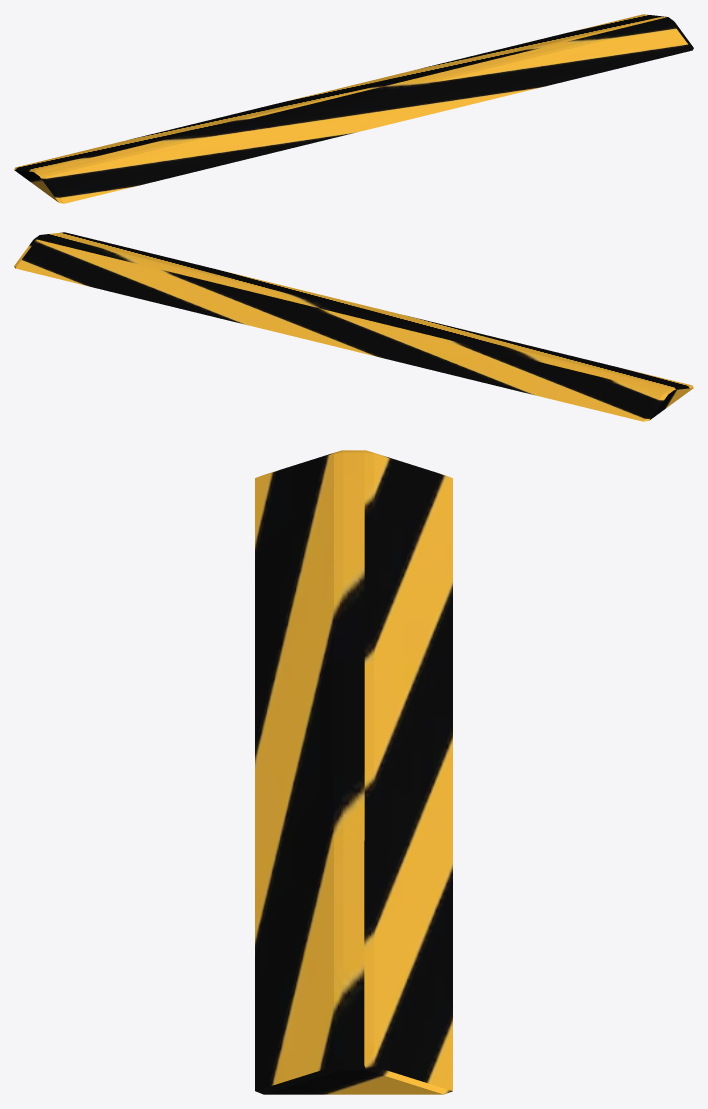
The model's file is breaker.fbx.
3 views of the same model, one above another, from view 1: azimuth 30°, elevation 25°; view 2: azimuth 150°, elevation 25°; view 3: azimuth 270°, elevation 25° (orthographic). The views are drawn at different scales.
Parts seen in each view (by area): view 1: breaker; view 2: breaker; view 3: breaker.
Boxes of the visible parts, x1=… form: breaker: x1=14, y1=14, x2=693, y2=203; breaker: x1=14, y1=232, x2=693, y2=421; breaker: x1=255, y1=450, x2=452, y2=1094.
Bounding box in the file's own units: 995 × 20 × 134.
